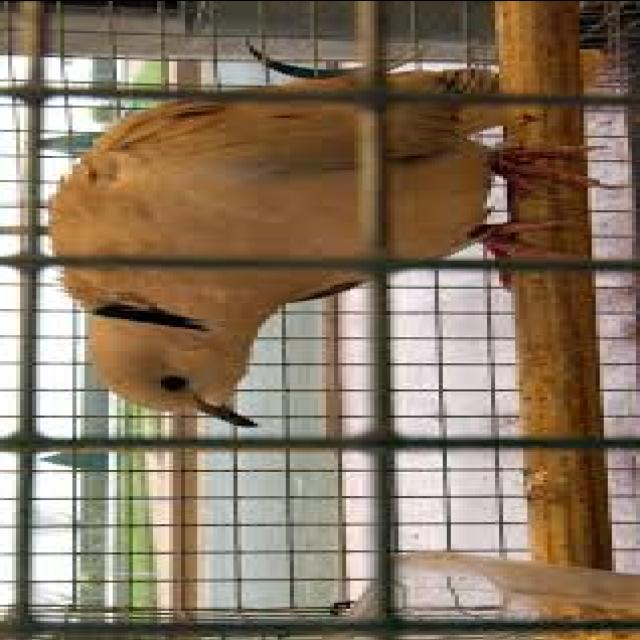pigeon: (28, 54, 550, 430)
